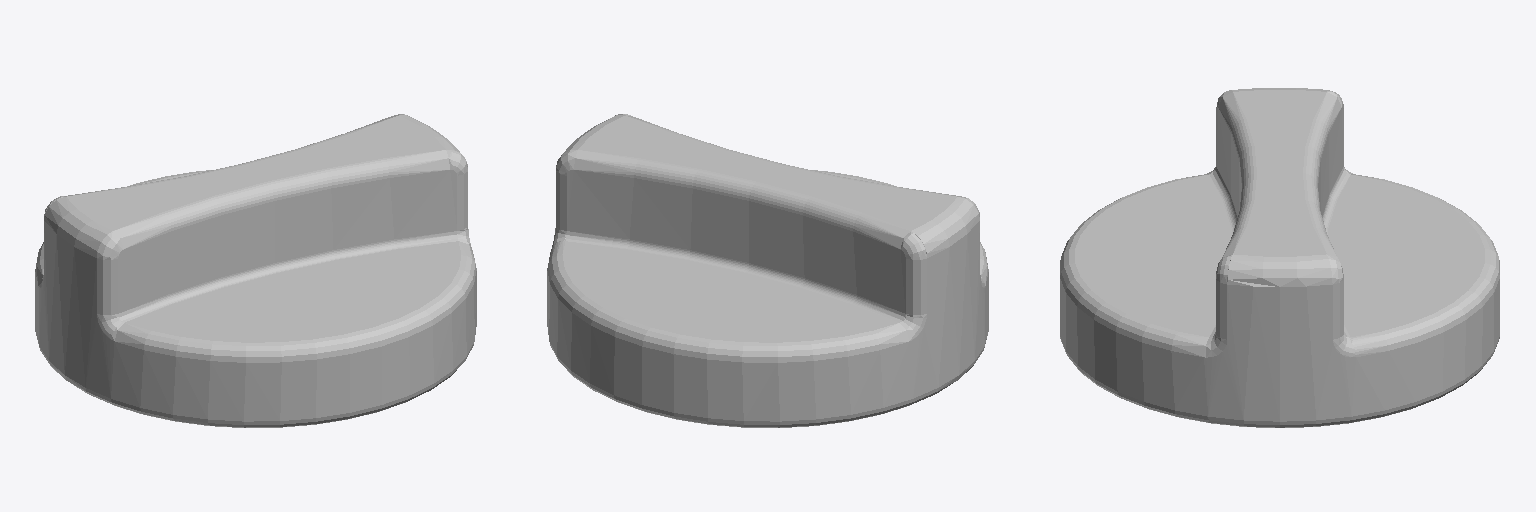
File: Крышка маслозаливной горловины.obj
The picture shows the model from 3 angles: view 1: azimuth 30°, elevation 25°; view 2: azimuth 150°, elevation 25°; view 3: azimuth 270°, elevation 25°; orthographic projection.
Parts seen in each view (by area): view 1: Крышка_маслозаливной_горловины; view 2: Крышка_маслозаливной_горловины; view 3: Крышка_маслозаливной_горловины.
Part boxes in pixels (x1,y1,x2,y2): Крышка_маслозаливной_горловины: (35, 114, 476, 427); Крышка_маслозаливной_горловины: (547, 114, 988, 427); Крышка_маслозаливной_горловины: (1060, 88, 1499, 427).
Size of the model in its own units: 58 by 24 by 57.81.